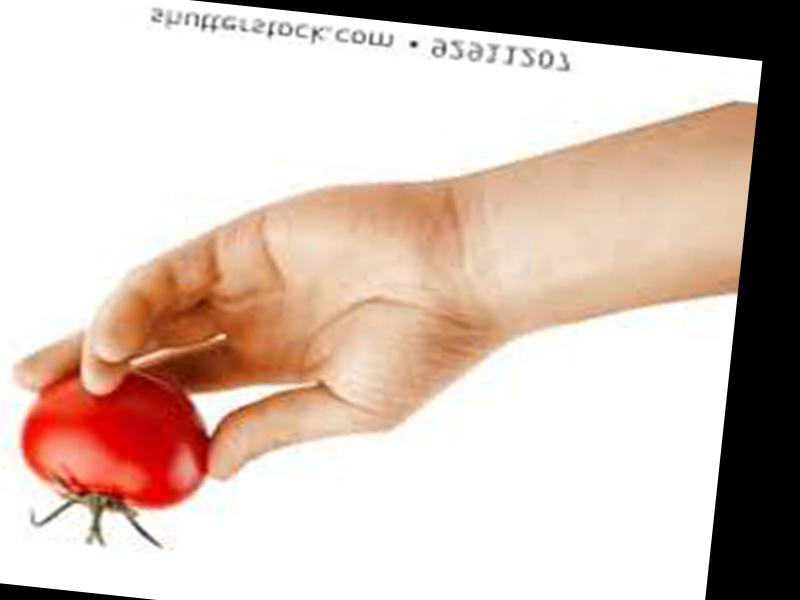Tomato: (13, 358, 218, 516)
